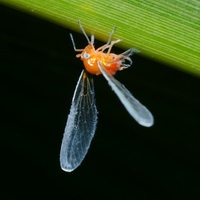insect: (60, 21, 153, 171)
